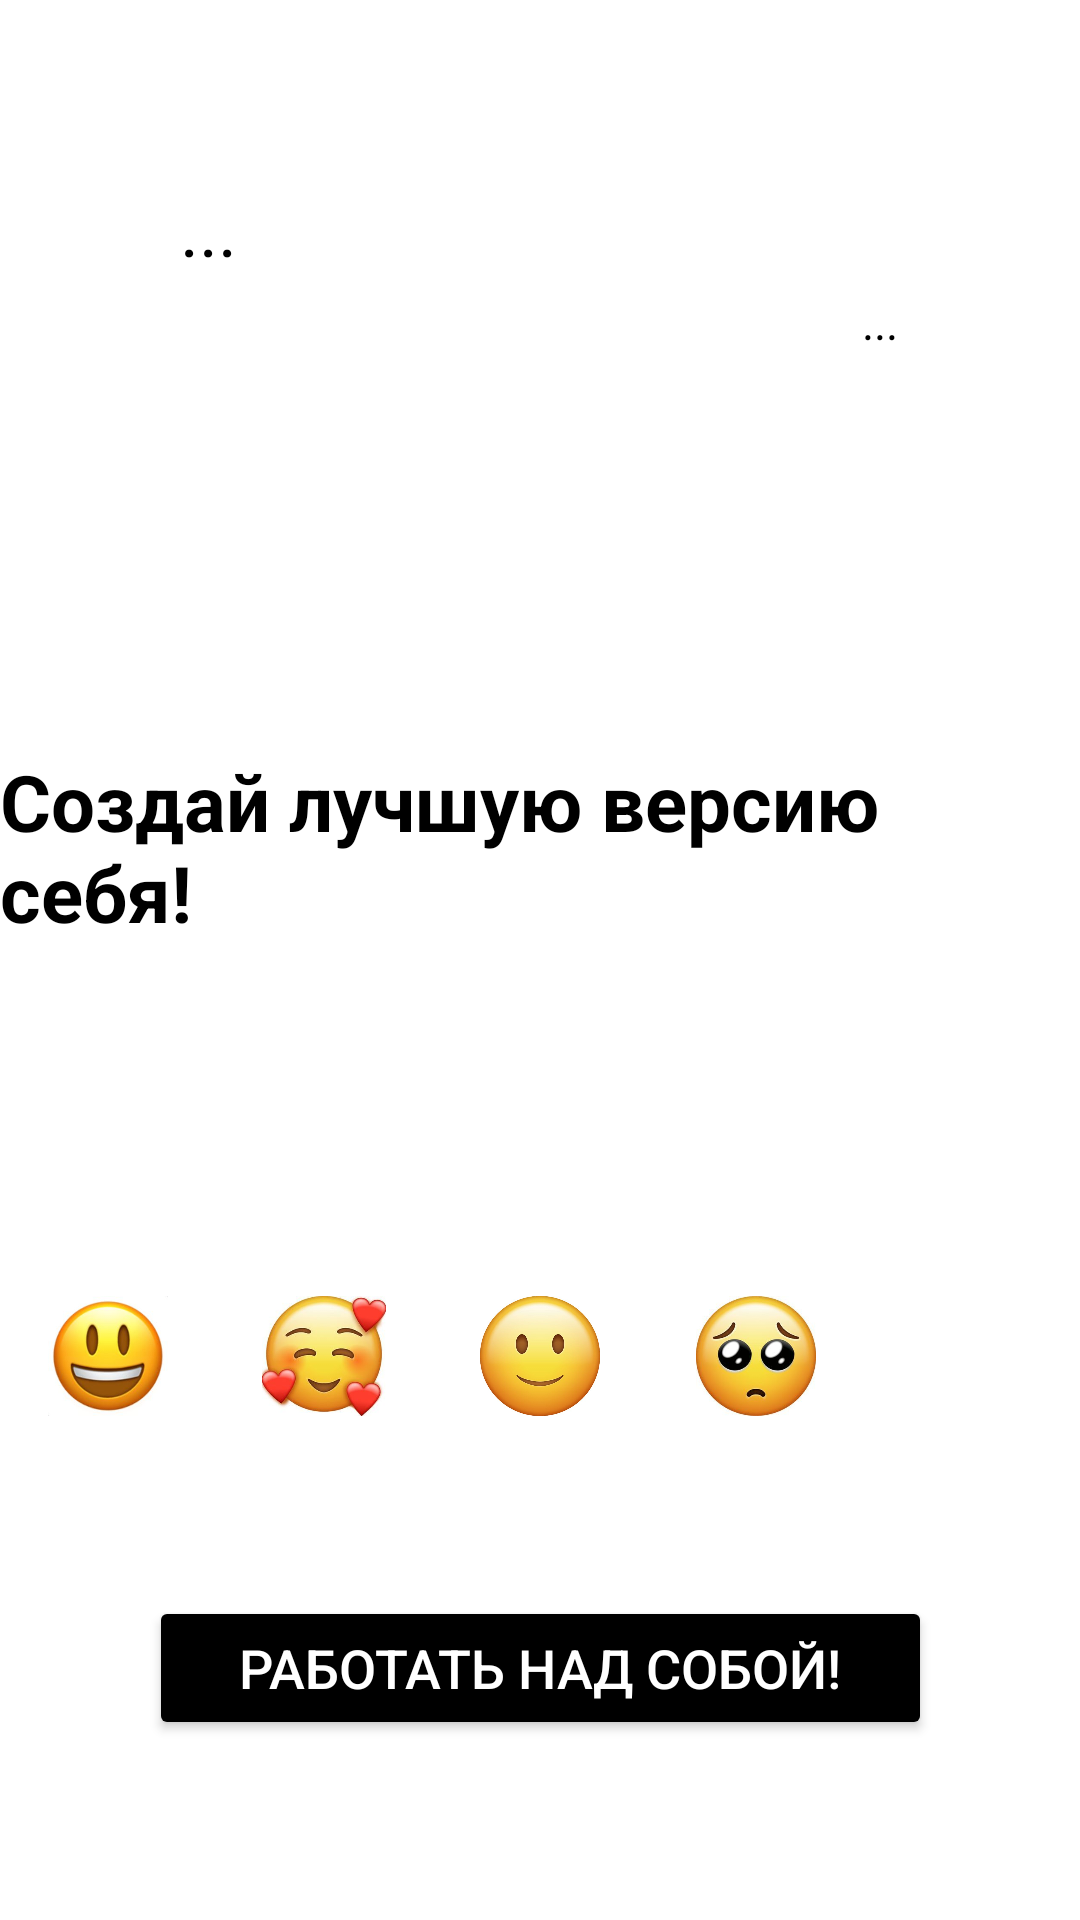

Point at icon controls on the screen. Image size 1080w x 1920h, points as [x,y].
happy: [108,1356]
lovely: [324,1356]
normal: [540,1356]
sad: [756,1356]
